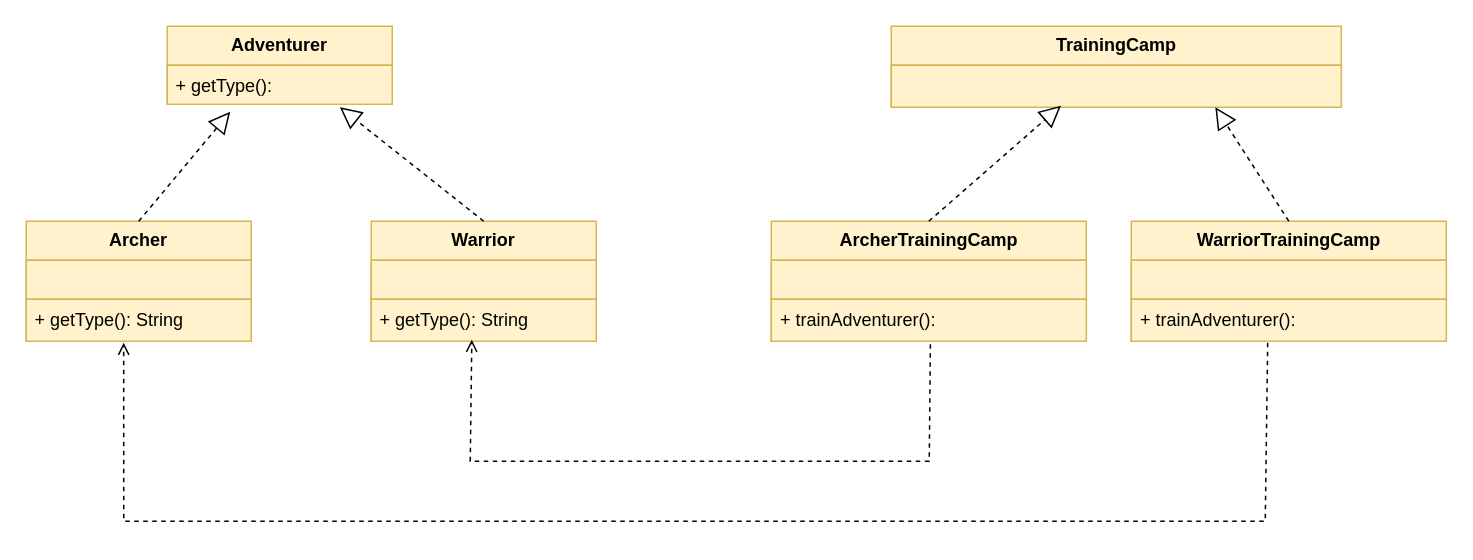
Some shapes in this 1473 by 560 pixel diagram are drawn without their labels. Each missing label, with the centre of its shape:
"+ Archer()" goes at (138,279).
"+ ArcherTrainingCamp()" goes at (928,279).
"+ trainAdventurer(String):" goes at (1115,85).
"+ Warrior()" goes at (483,279).
"+ WarriorTrainingCamp()" goes at (1288,279).
